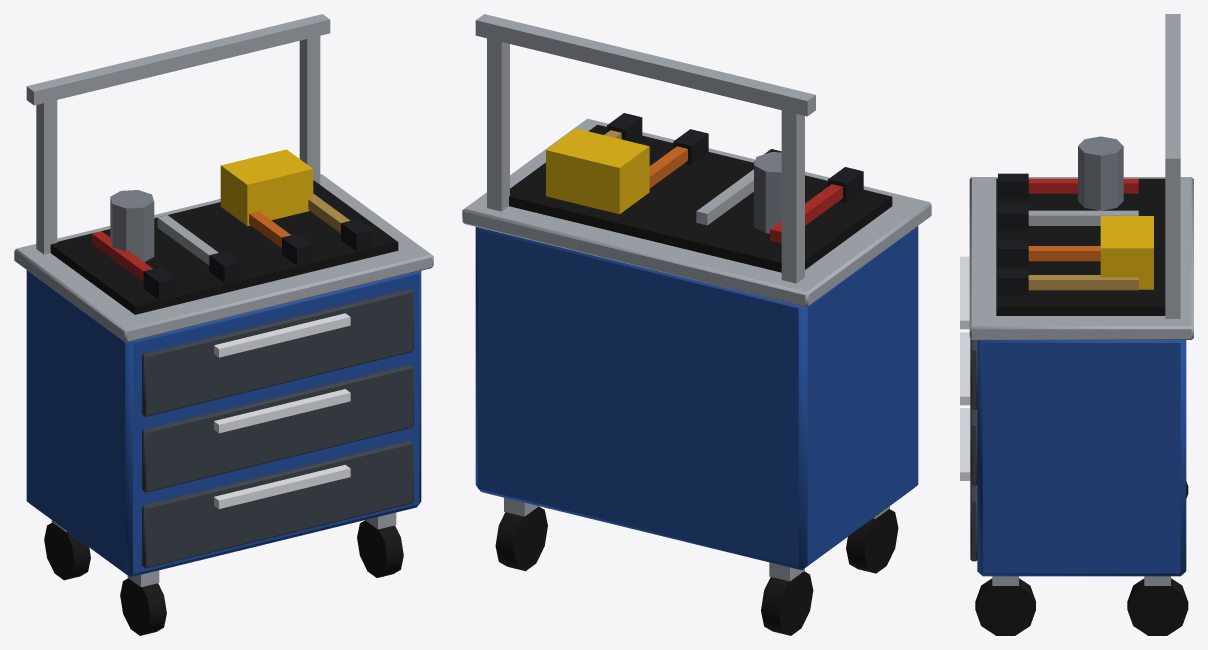
The model's file is hangartool_tool_cart.glb.
3 views of the same model, side by side, from view 1: azimuth 30°, elevation 25°; view 2: azimuth 150°, elevation 25°; view 3: azimuth 270°, elevation 25° (orthographic). The views are drawn at different scales.
Visible parts, largest first — view 1: hangartool_tool_cart; view 2: hangartool_tool_cart; view 3: hangartool_tool_cart.
Part boxes in pixels (box(x1,y1,x2,y2)): hangartool_tool_cart: box(14, 14, 433, 635); hangartool_tool_cart: box(462, 14, 931, 635); hangartool_tool_cart: box(960, 14, 1193, 635).
Bounding box in the file's own units: 0.94 × 1.42 × 0.615.
